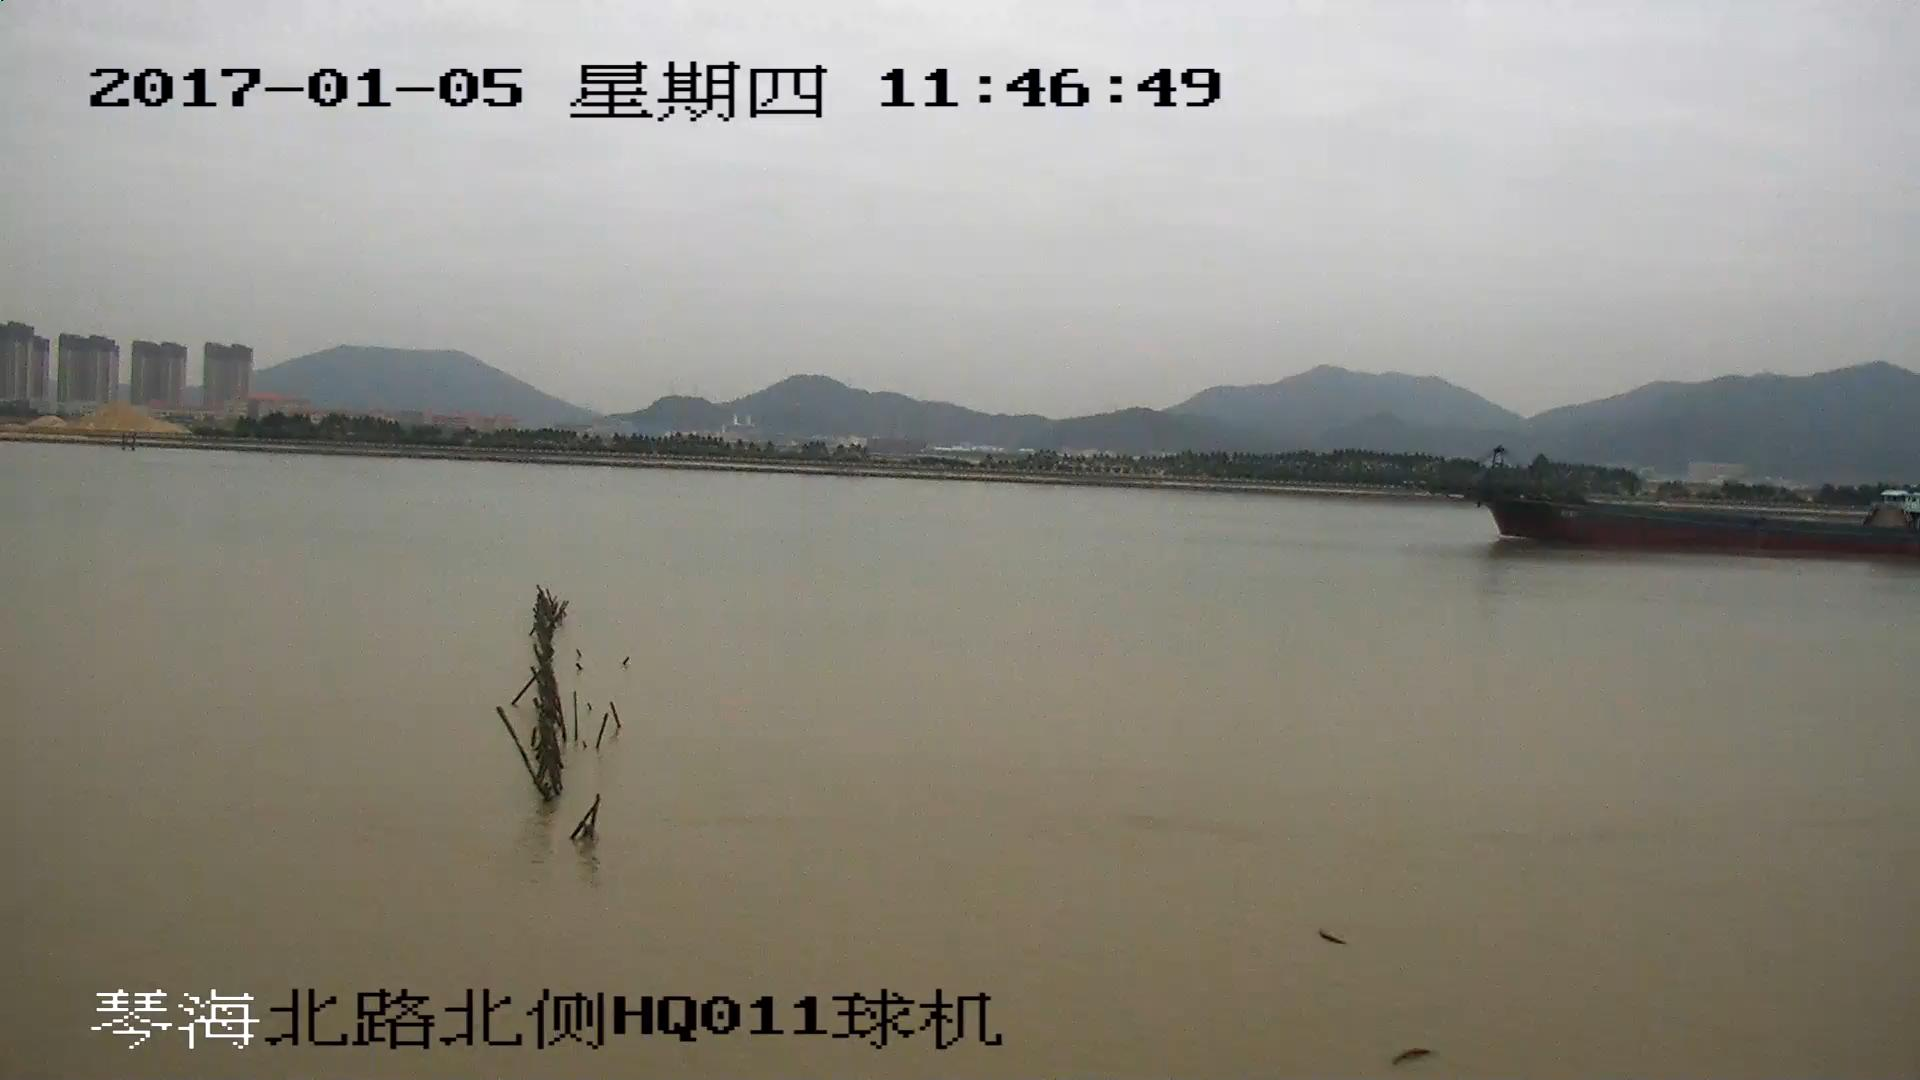bulk cargo carrier: (1432, 448, 1920, 558)
